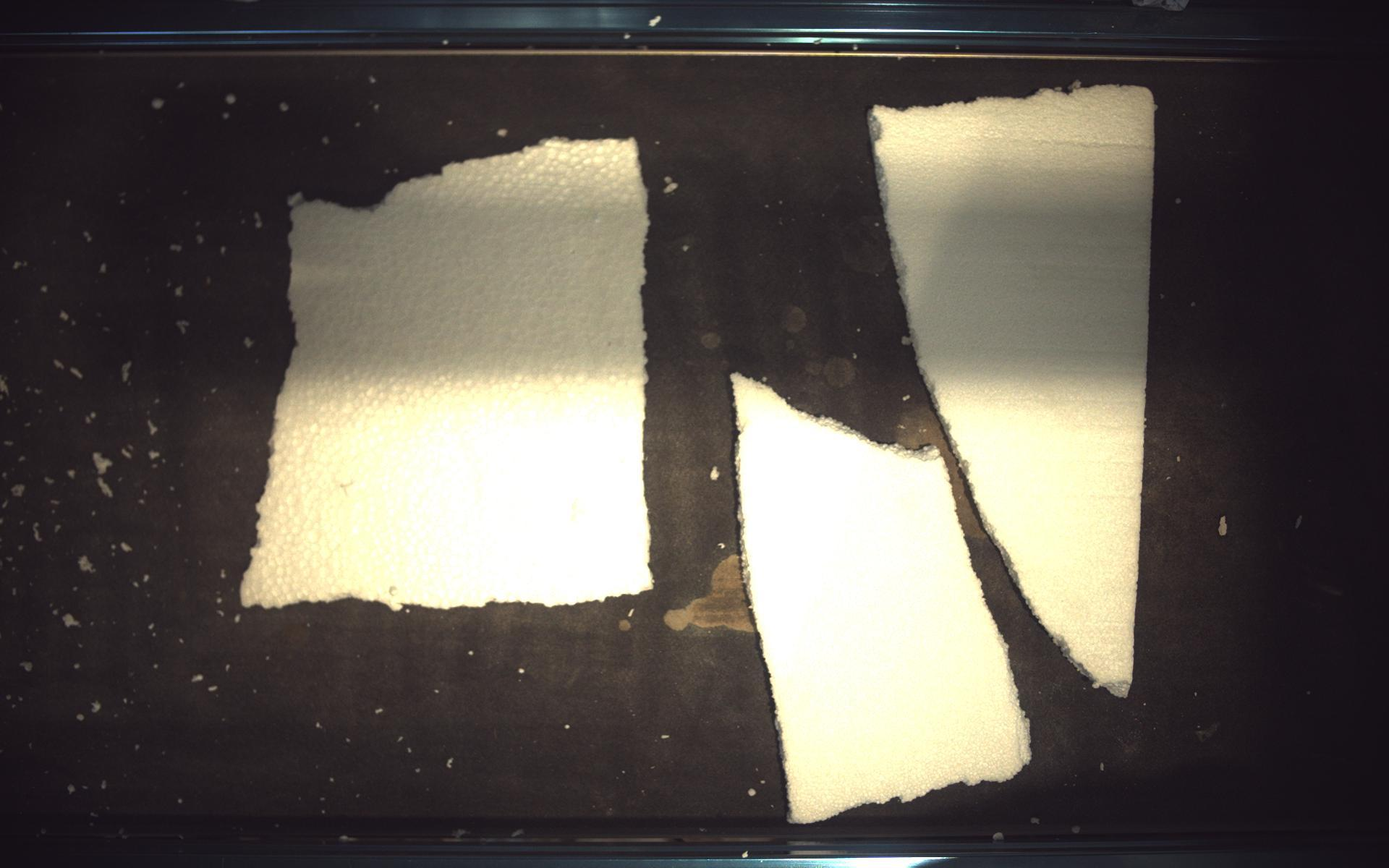foam: (241, 139, 653, 610), (872, 85, 1157, 696), (733, 374, 1032, 825)
